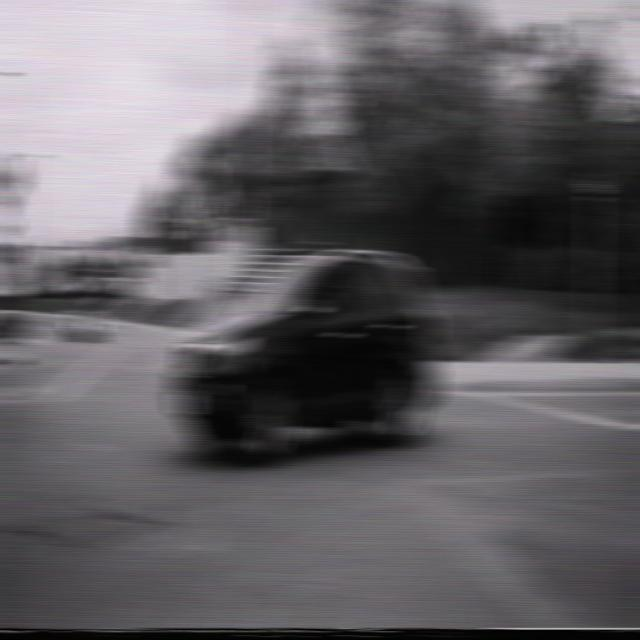speedLimit25: (234, 225, 260, 258)
